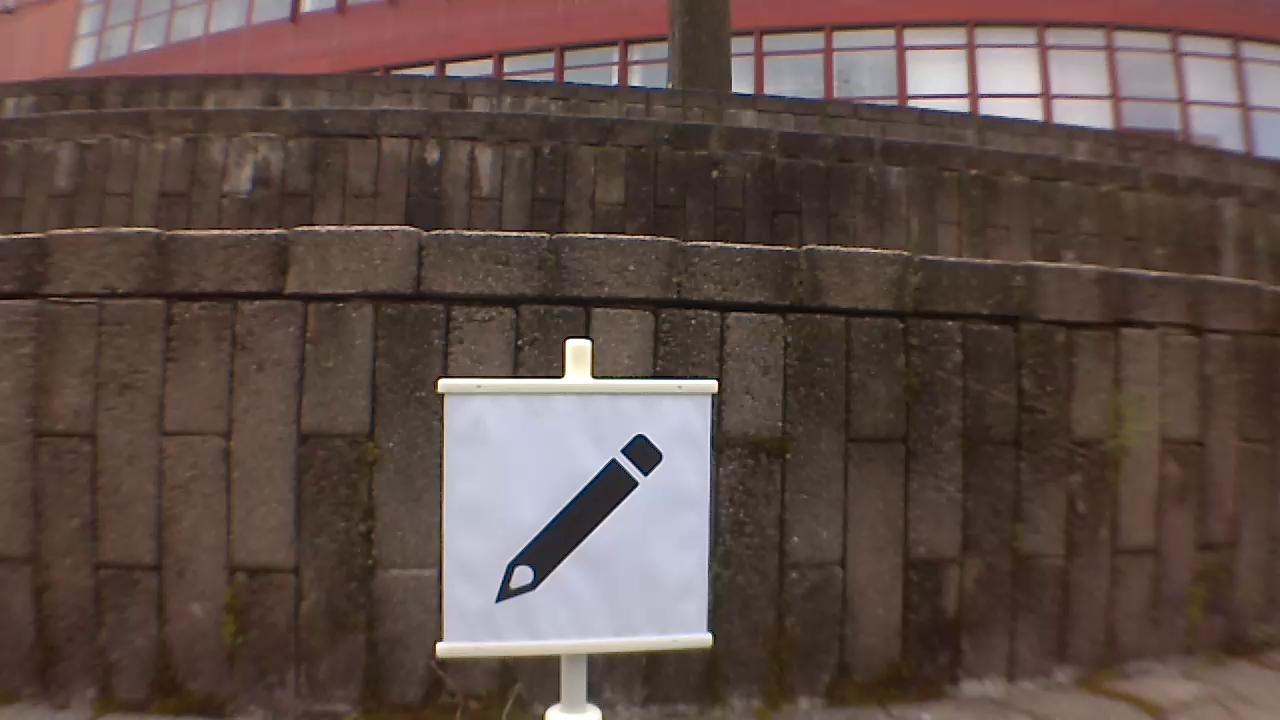pencil: (493, 430, 666, 605)
